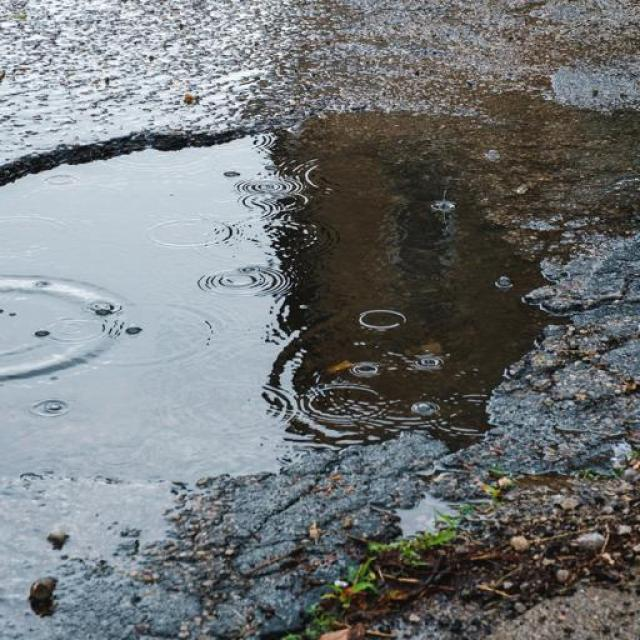puddle: (2, 191, 527, 482)
